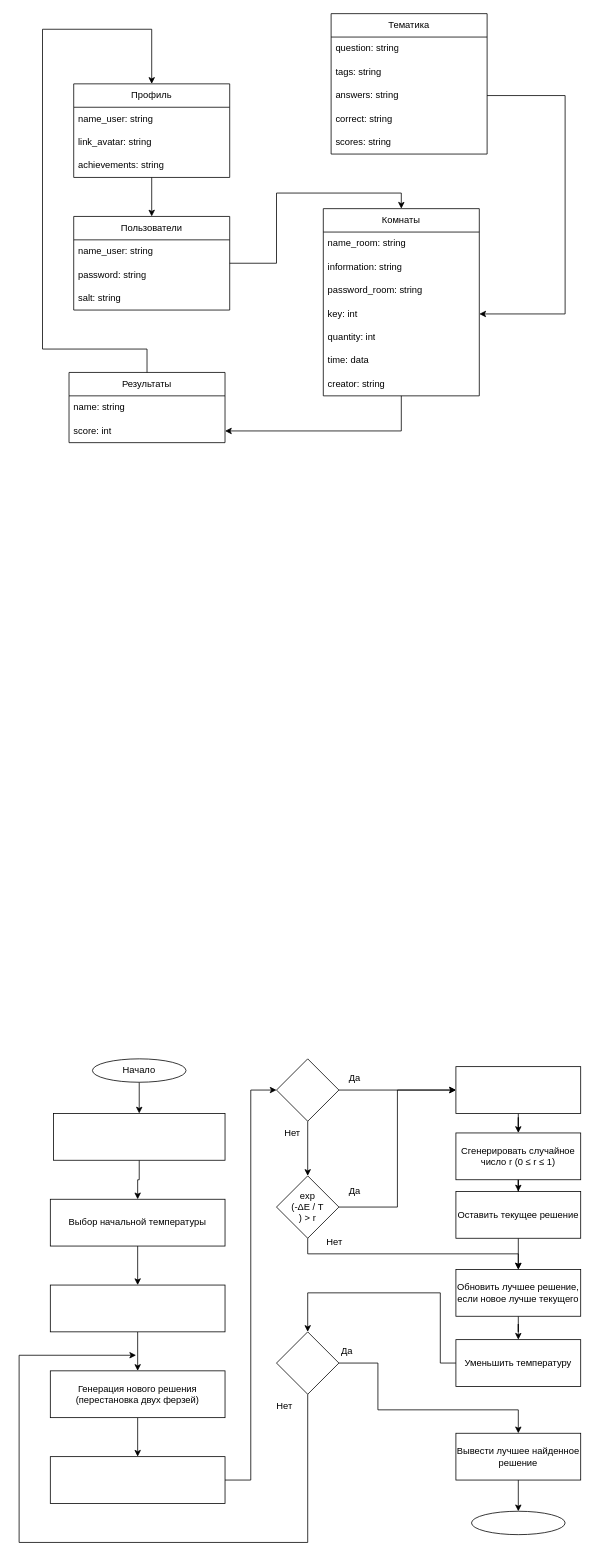
This 594x1562 diagram has some shape labels left out. The centre of each missing label's shape, as x and y in pixels:
"T < Tmin" goes at (307,1362).
"Инициализация начального решения (случайная расстановка ферзей)" goes at (139,1136).
"Конец" goes at (518,1522).
"Оценка энергии (число конфликтов)" goes at (137,1308).
"Принять новое решение" goes at (518,1089).
"Рассчитать разницу в энергии (∆E)" goes at (137,1479).
"∆E < 0" goes at (307,1089).
